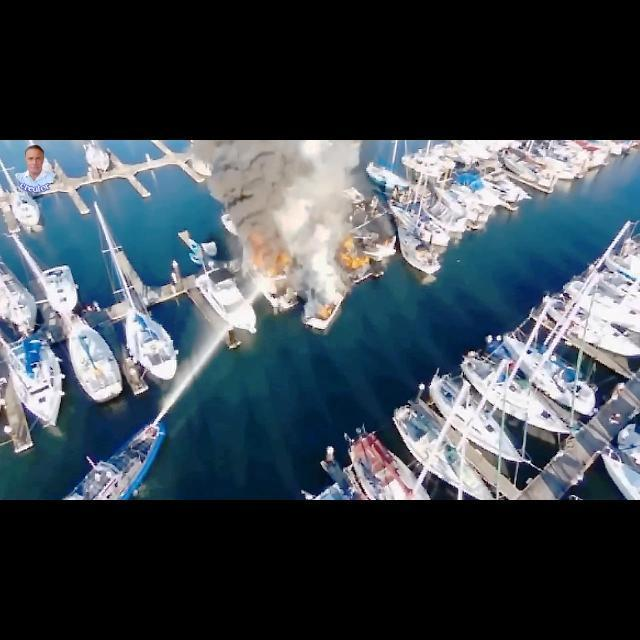Fire: (338, 242, 364, 270)
Smoke: (214, 148, 322, 224)
